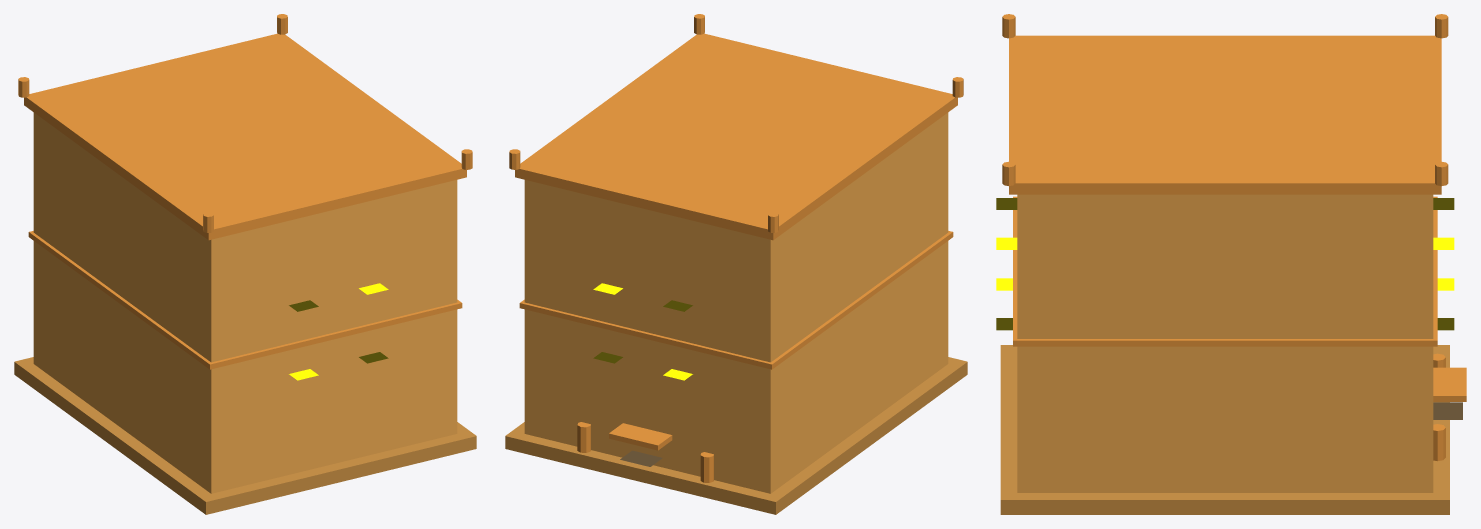
Rendered from hospital.glb.
3 renders of one model, left to right at view 1: azimuth 30°, elevation 25°; view 2: azimuth 150°, elevation 25°; view 3: azimuth 270°, elevation 25°, orthographic. The views are drawn at different scales.
Visible parts, largest first — view 1: hospital; view 2: hospital; view 3: hospital.
Boxes of the visible parts, left/top/right/bottom form: hospital: left=14, top=14, right=476, bottom=514; hospital: left=505, top=14, right=967, bottom=514; hospital: left=996, top=14, right=1466, bottom=514.
Size of the model in its own units: 4.4 by 4.6 by 5.65.
